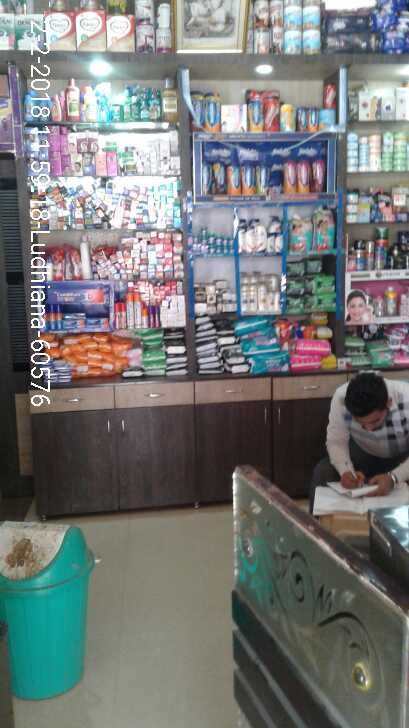vicks: (192, 225, 235, 258)
